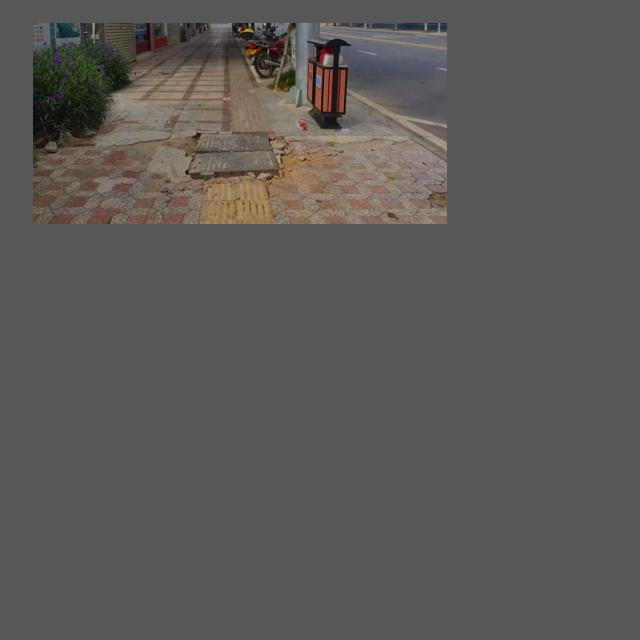circle: (169, 119, 305, 201)
